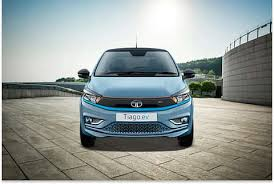Tiago: (71, 41, 203, 154)
